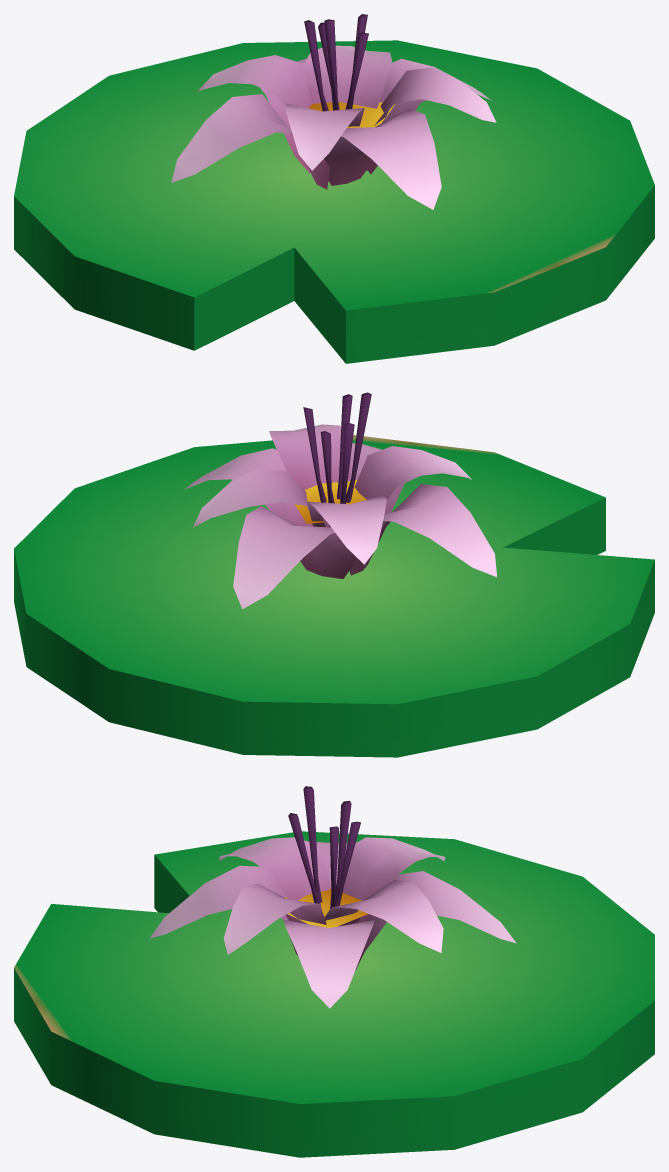
The model's file is Lily.fbx.
3 views of the same model, one above another, from view 1: azimuth 30°, elevation 25°; view 2: azimuth 150°, elevation 25°; view 3: azimuth 270°, elevation 25° (orthographic).
Parts seen in each view (by area): view 1: Lily; view 2: Lily; view 3: Lily.
Part boxes in pixels (x1=…): Lily: x1=14, y1=14, x2=654, y2=363; Lily: x1=14, y1=392, x2=654, y2=757; Lily: x1=14, y1=786, x2=654, y2=1157.
Size of the model in its own units: 0.4606 by 0.1765 by 0.4573.
